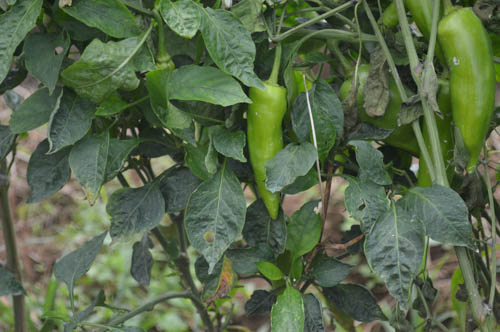ChiliPepper: (443, 8, 496, 171), (347, 70, 418, 151), (248, 82, 285, 219), (419, 80, 455, 202)
